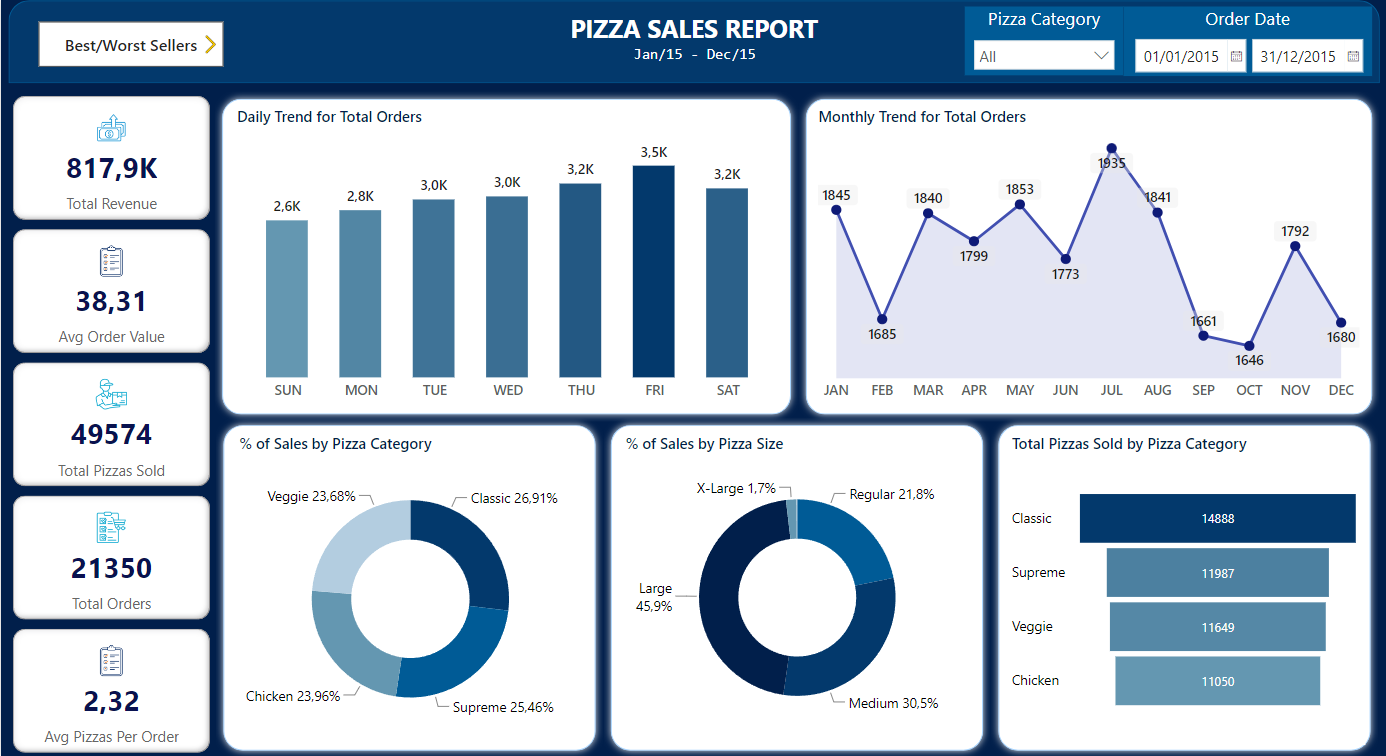

What the dashboard file says about the page in this screenshot:
{"tool":"powerbi","page":{"name":"Home","canvas":[1500,820],"ordinal":0},"visuals":[{"type":"shape","box":[233,452.4,418.3,367.9],"z":0},{"type":"shape","box":[651.3,452.4,418.3,367.9],"z":1000},{"type":"shape","box":[1069.7,452.4,418.3,367.9],"z":2000},{"type":"shape","box":[8.2,1.4,1482.6,89.9],"z":3000},{"type":"cardVisual","fields":{"Data":["orders.Total Revenue","orders.Avg Order Value","orders.Total Pizzas Sold","orders.Total Orders","orders.Avg Pizzas Per Order"]},"box":[8.2,99.5,223.5,720.8],"z":4000},{"type":"textbox","box":[602.3,8.2,293,49.1],"z":5000},{"type":"textbox","box":[610.5,46.3,278,31.3],"z":6000},{"type":"shape","box":[231.7,99.5,630.9,357],"z":7000},{"type":"columnChart","title":"Daily Trend for Total Orders","fields":{"Category":["orders.day_name"],"Y":["orders.Total Orders"]},"box":[249.4,114.5,596.8,328.4],"z":8000},{"type":"shape","box":[862.6,99.5,628.2,357],"z":9000},{"type":"areaChart","title":"Monthly Trend for Total Orders","fields":{"Category":["orders.month_name"],"Y":["orders.Total Orders"]},"box":[878.9,114.5,595.5,328.4],"z":10000},{"type":"donutChart","title":"% of Sales by Pizza Category","fields":{"Y":["orders.Total Revenue"],"Category":["pizzas.pizza_category"]},"box":[252.1,468.8,380.2,337.9],"z":11000},{"type":"donutChart","title":"% of Sales by Pizza Size","fields":{"Y":["orders.Total Revenue"],"Category":["pizzas.pizza_size"]},"box":[670.4,468.8,381.5,335.2],"z":12000},{"type":"funnel","title":"Total Pizzas Sold by Pizza Category","fields":{"Y":["orders.Total Pizzas Sold"],"Category":["pizzas.pizza_category"]},"box":[1087.4,468.8,387,337.9],"z":13000},{"type":"slicer","title":"Pizza Category","fields":{"Values":["pizzas.pizza_category"]},"box":[1042.3,8.6,171.4,74.3],"z":14000},{"type":"slicer","title":"Order Date","fields":{"Values":["orders.order_date"]},"box":[1213.2,8.2,268.4,74.9],"z":15000},{"type":"pageNavigator","box":[40.9,24.5,200.3,49.1],"z":16000},{"type":"image","box":[211.7,20.8,29.2,56.7],"z":17000}]}

Visuals, with their boxes in screenshot pixels (x1, y1, x2, y2), scaled from the page's 1500x820 canvas onto the 1386x756 screenshot:
shape: locate(215, 417, 602, 755)
shape: locate(602, 417, 988, 755)
shape: locate(988, 417, 1375, 755)
shape: locate(8, 1, 1377, 84)
cardVisual - orders.Total Revenue x orders.Avg Order Value: locate(8, 92, 214, 755)
textbox: locate(557, 8, 827, 53)
textbox: locate(564, 43, 821, 72)
shape: locate(214, 92, 797, 421)
"Daily Trend for Total Orders" columnChart: locate(230, 106, 782, 408)
shape: locate(797, 92, 1377, 421)
"Monthly Trend for Total Orders" areaChart: locate(812, 106, 1362, 408)
"% of Sales by Pizza Category" donutChart: locate(233, 432, 584, 744)
"% of Sales by Pizza Size" donutChart: locate(619, 432, 972, 741)
"Total Pizzas Sold by Pizza Category" funnel: locate(1005, 432, 1362, 744)
"Pizza Category" slicer: locate(963, 8, 1121, 76)
"Order Date" slicer: locate(1121, 8, 1369, 77)
pageNavigator: locate(38, 23, 223, 68)
image: locate(196, 19, 223, 71)
